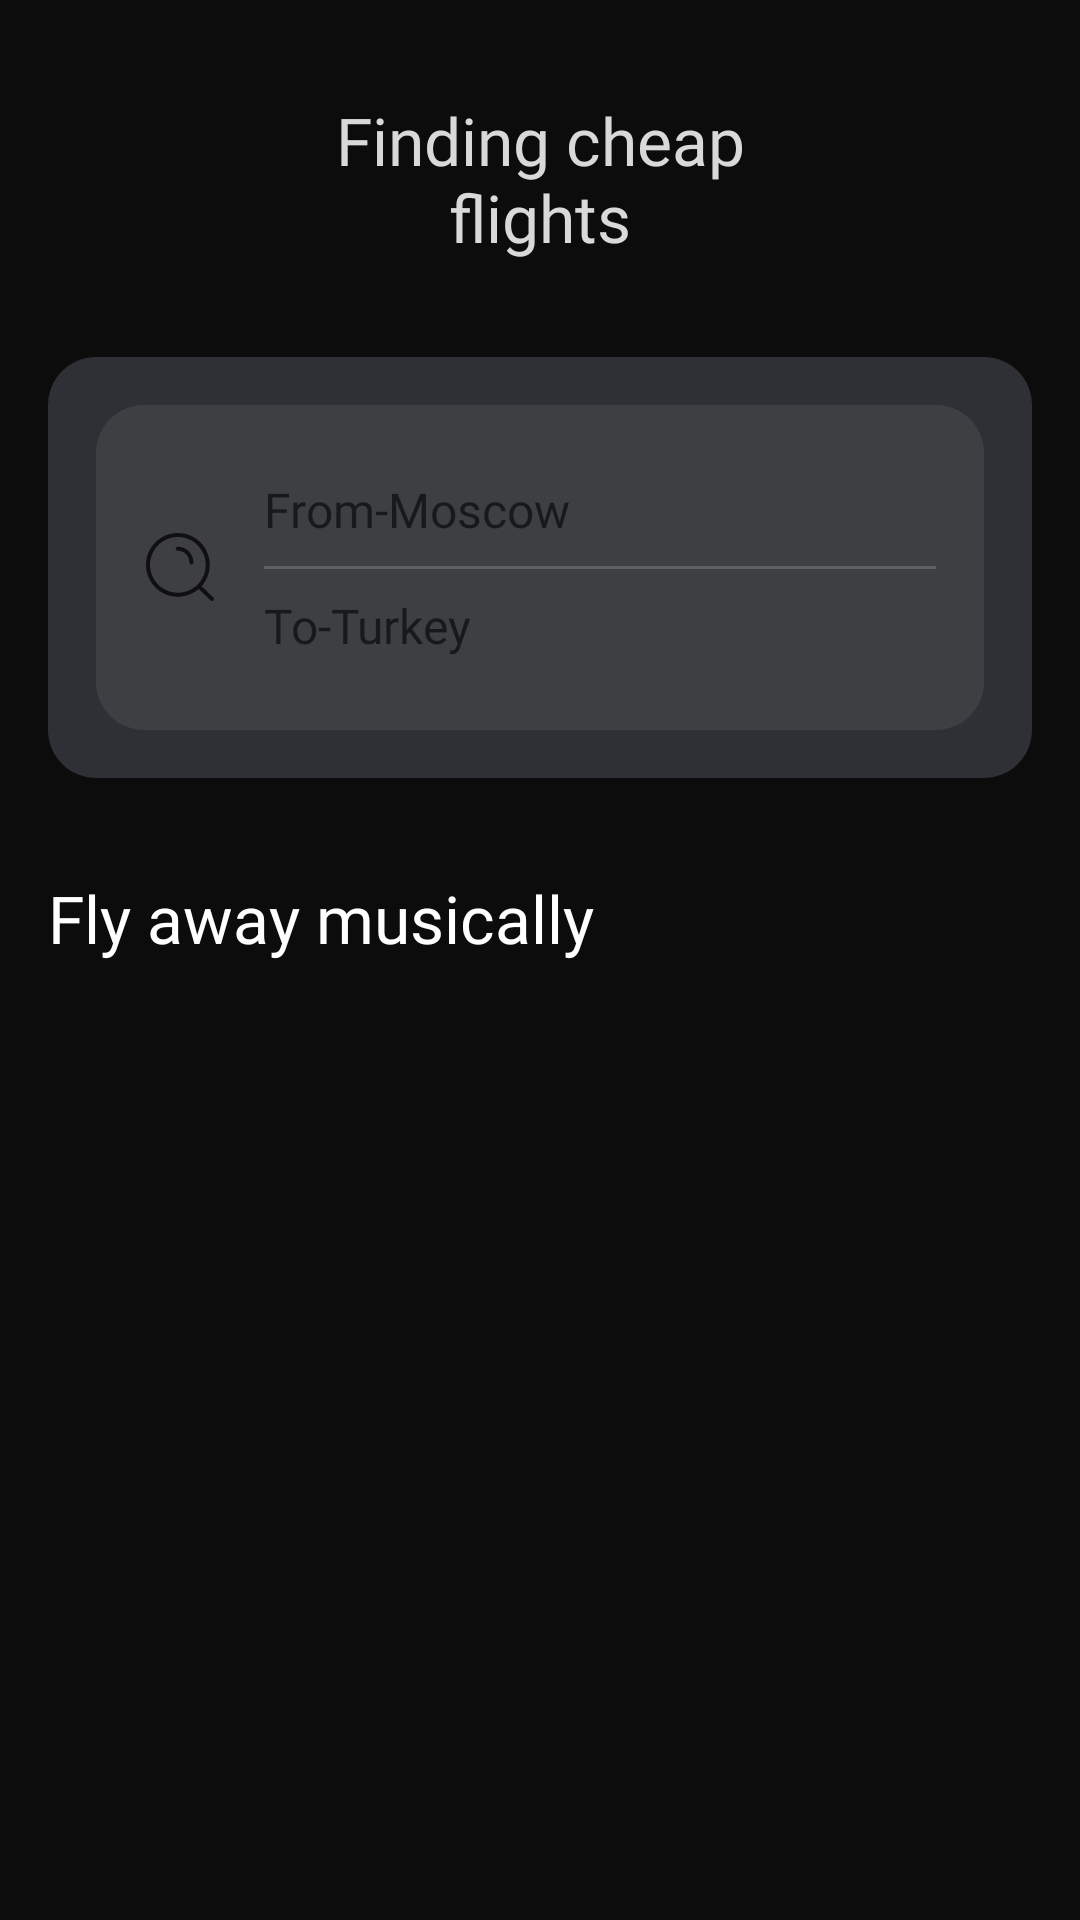

Icons on this 1080x1920 Android screen, each with the point to tap as (x=x, y=y):
searhc: (x=180, y=567)
